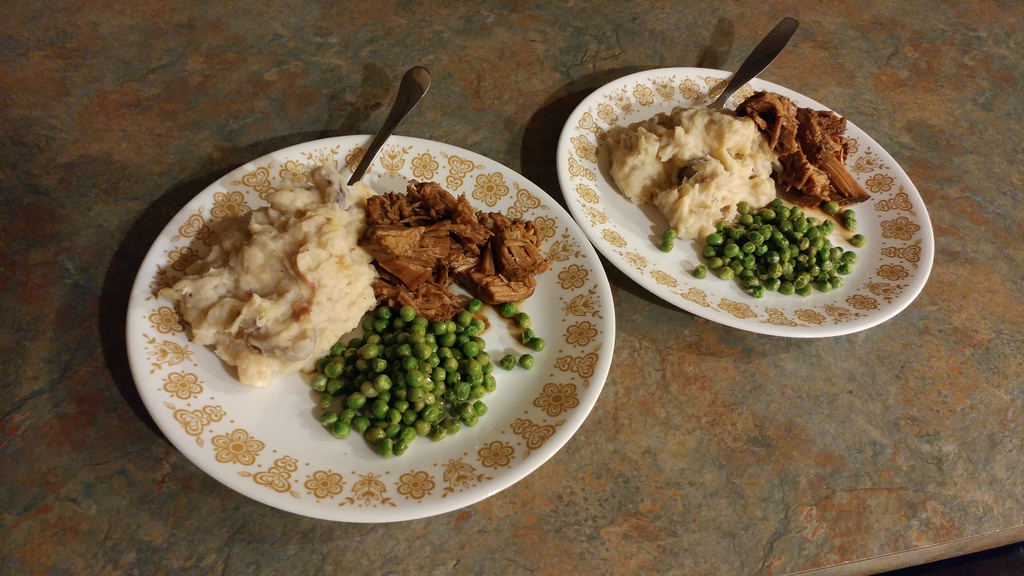boiled peas: (370, 324, 483, 434), (701, 231, 834, 293)
